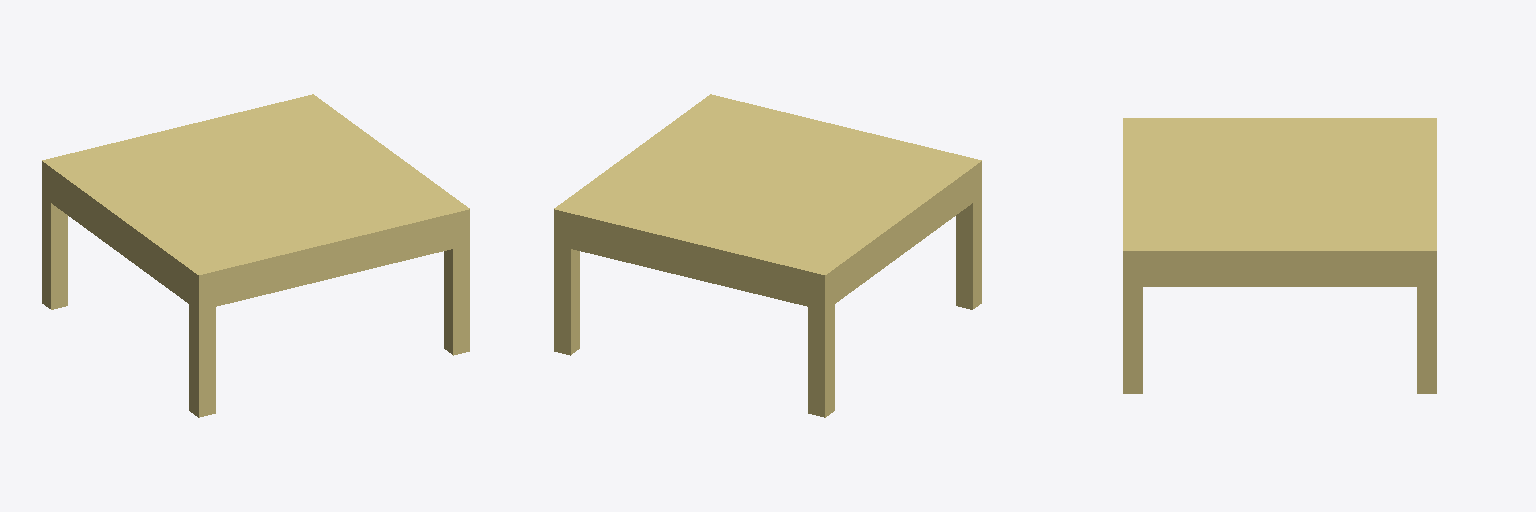
The picture shows the model from 3 angles: view 1: azimuth 30°, elevation 25°; view 2: azimuth 150°, elevation 25°; view 3: azimuth 270°, elevation 25°; orthographic projection.
Visible parts, largest first — view 1: cube; view 2: cube; view 3: cube.
Boxes of the visible parts, <box> form: cube: <box>42,94,469,417</box>; cube: <box>554,94,981,417</box>; cube: <box>1123,118,1436,393</box>.
Bounding box in the file's own units: 1 × 0.5 × 1.
Materials: 1 (1 with a texture image).